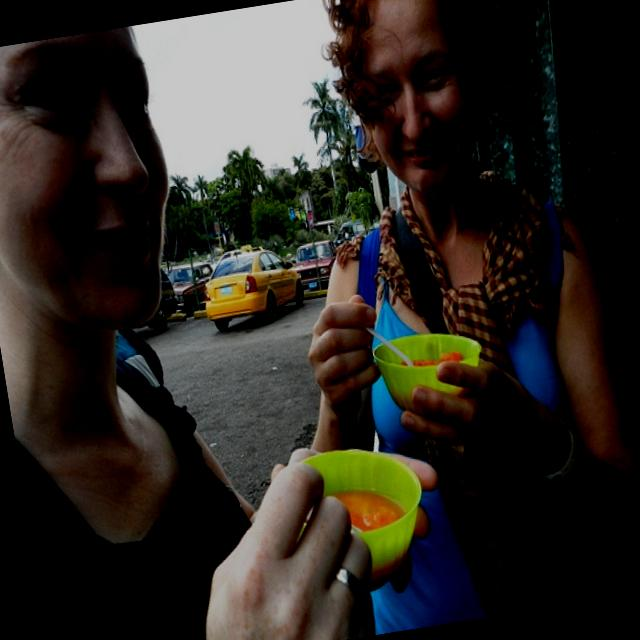Vehicle: (198, 240, 309, 333), (164, 258, 220, 316), (136, 264, 180, 334), (289, 238, 342, 292)
